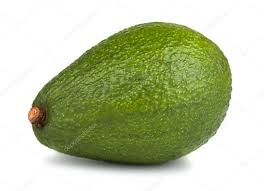abacate: (27, 21, 237, 166)
